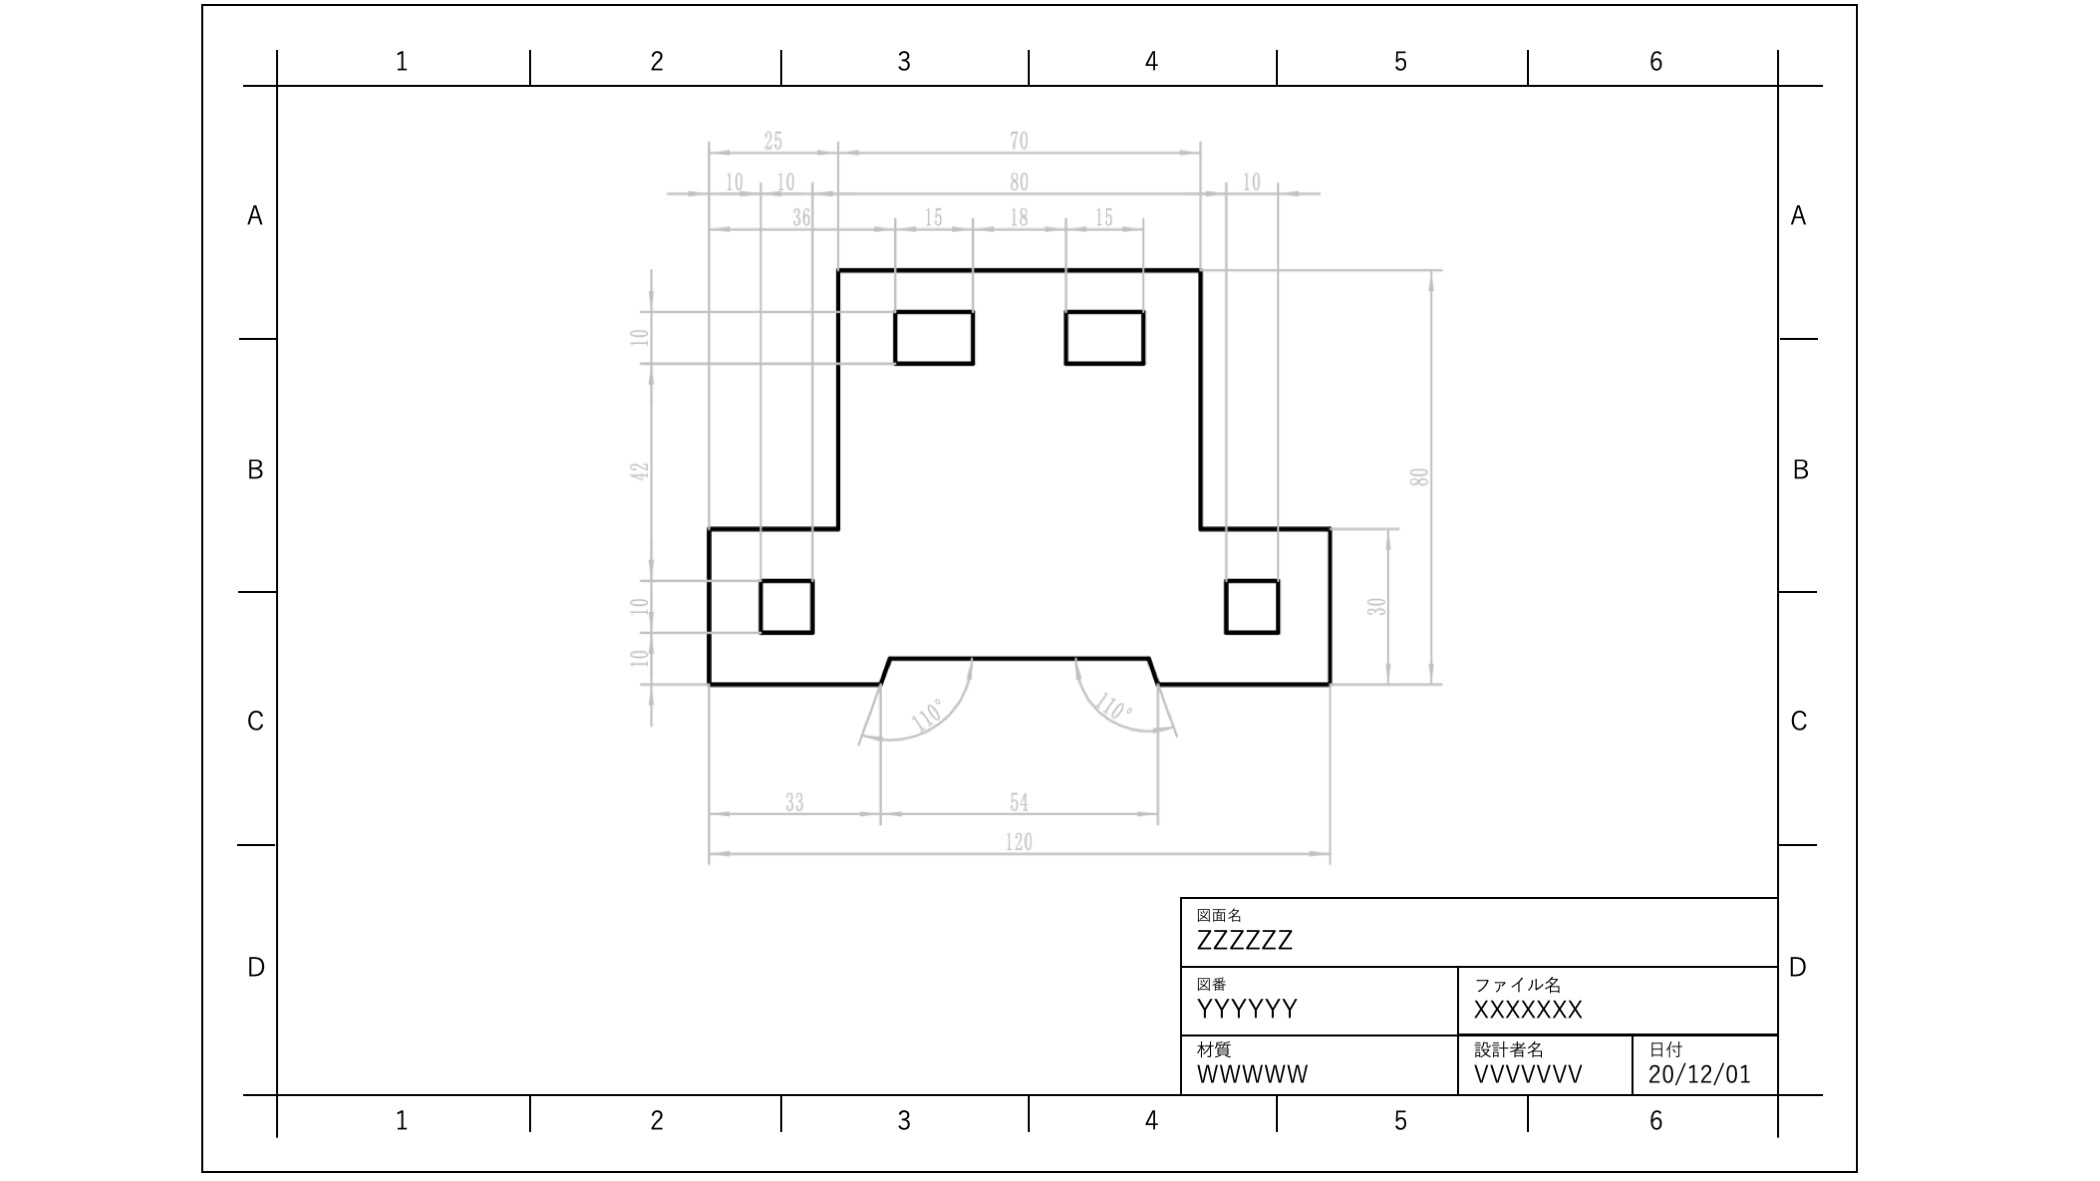rectangle: (1051, 288, 1152, 372), (886, 298, 984, 378), (754, 557, 822, 643), (1216, 568, 1289, 634)
